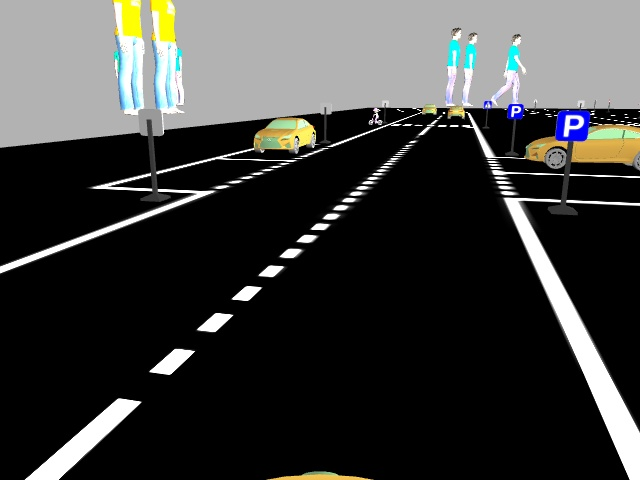Parking: (552, 106, 589, 144), (505, 102, 524, 121)
